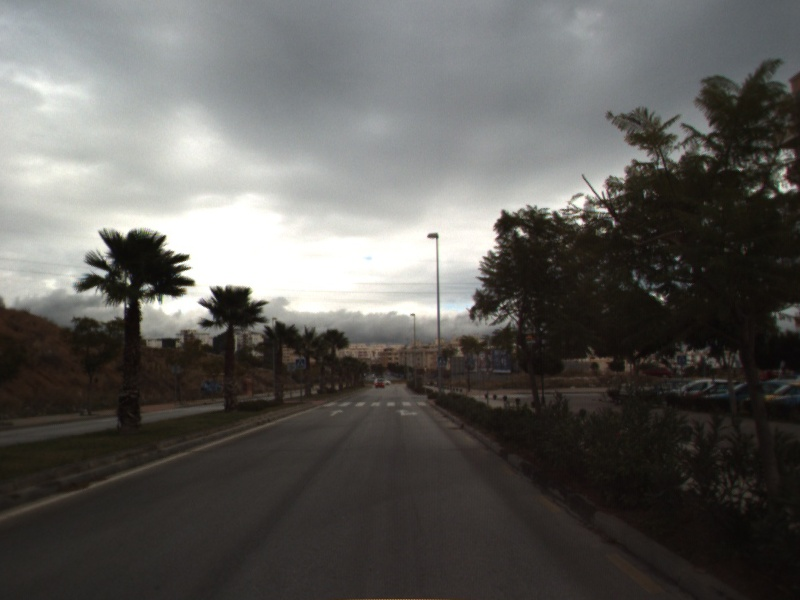STRAIGHT: (327, 407, 346, 418)
STRAIGHT_RIGHT: (394, 406, 420, 418)
